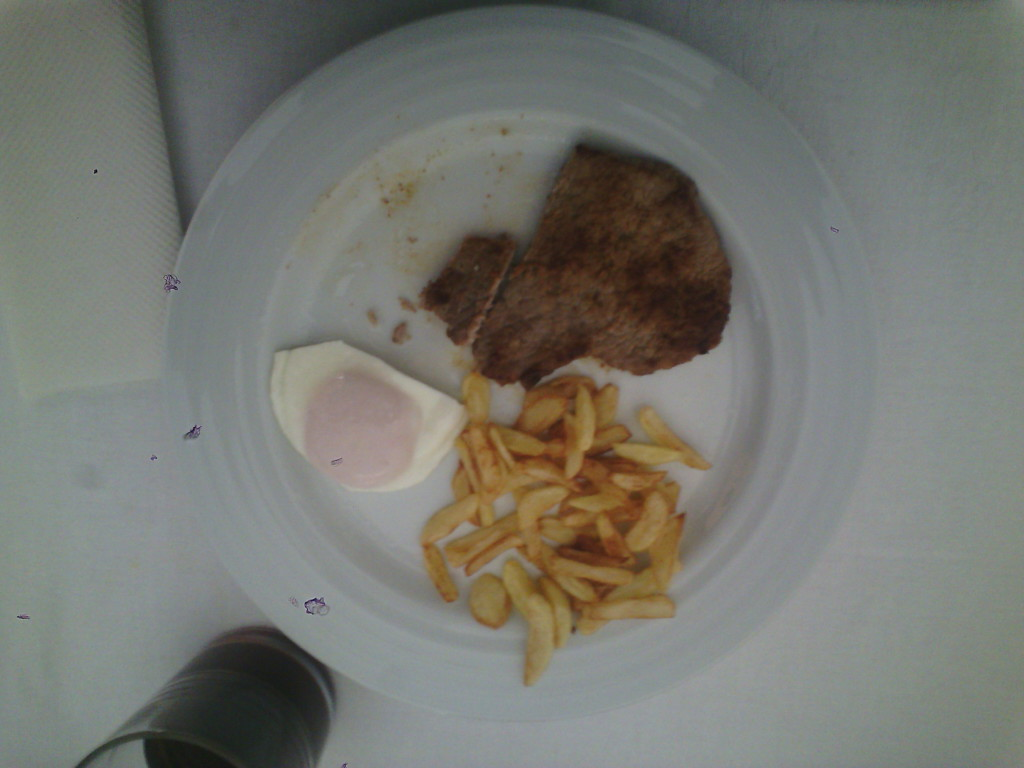61-80: (184, 8, 878, 703)
